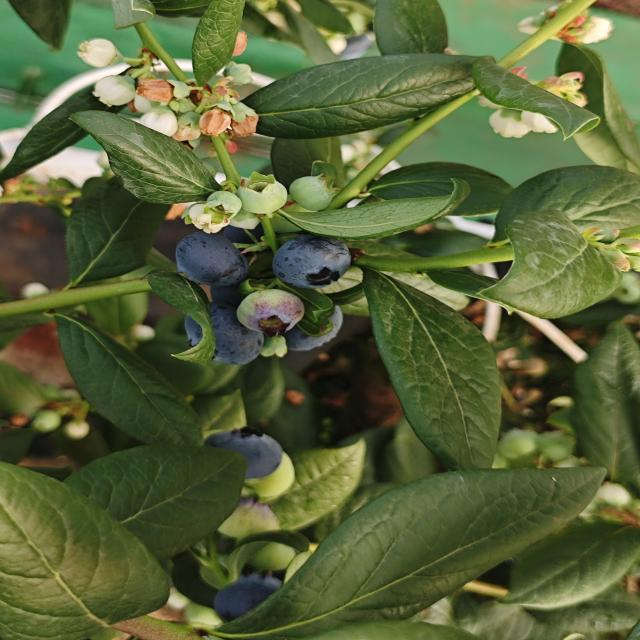ripe: (180, 292, 273, 371), (172, 223, 262, 290), (277, 292, 355, 357), (210, 569, 296, 627), (268, 236, 350, 289), (219, 430, 289, 480)
